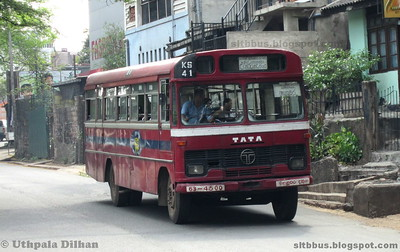bus: (83, 46, 312, 224)
